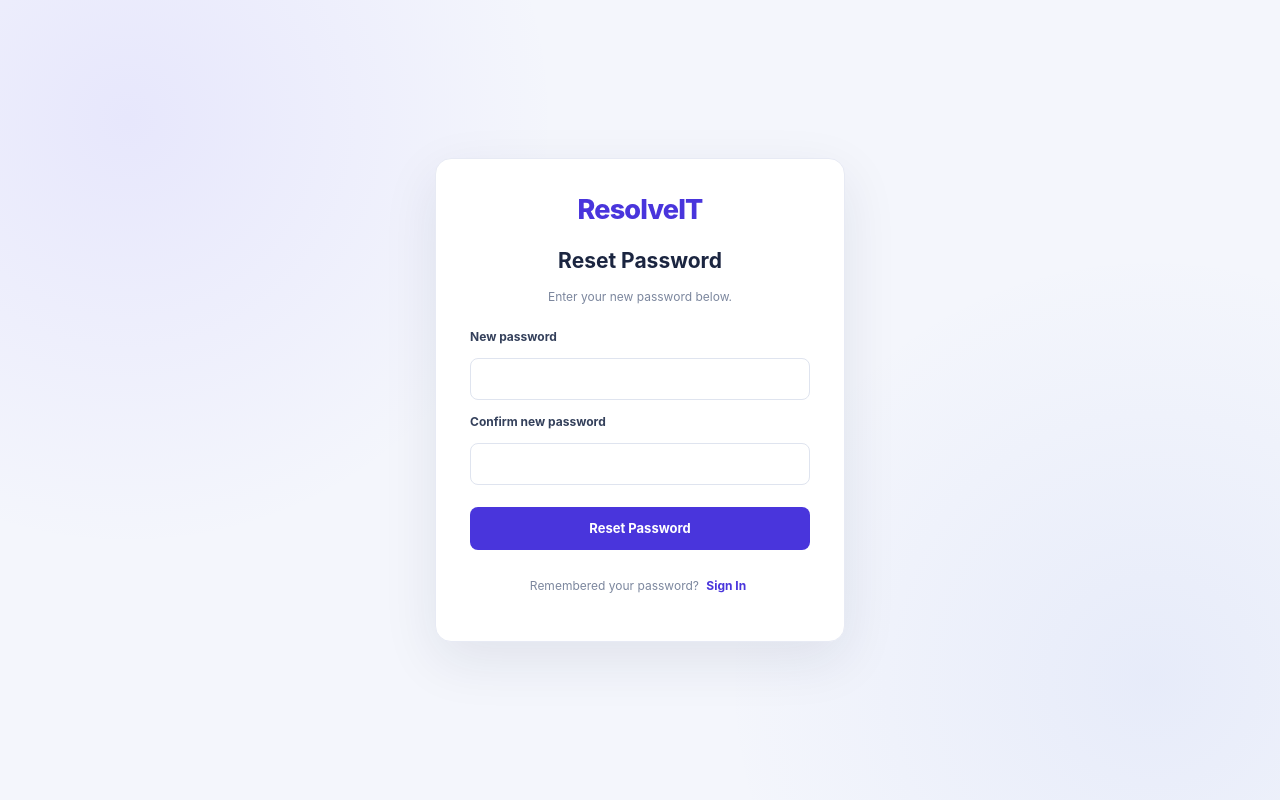
Test: Password Reset Workflows & Security › validates password length and matching confirmation before submitting
The width and height of the screenshot is (1280, 800).
Note: Mismatched passwords
In the password field labelled "New password": (640, 378) [470, 358, 810, 400], type "secret123"
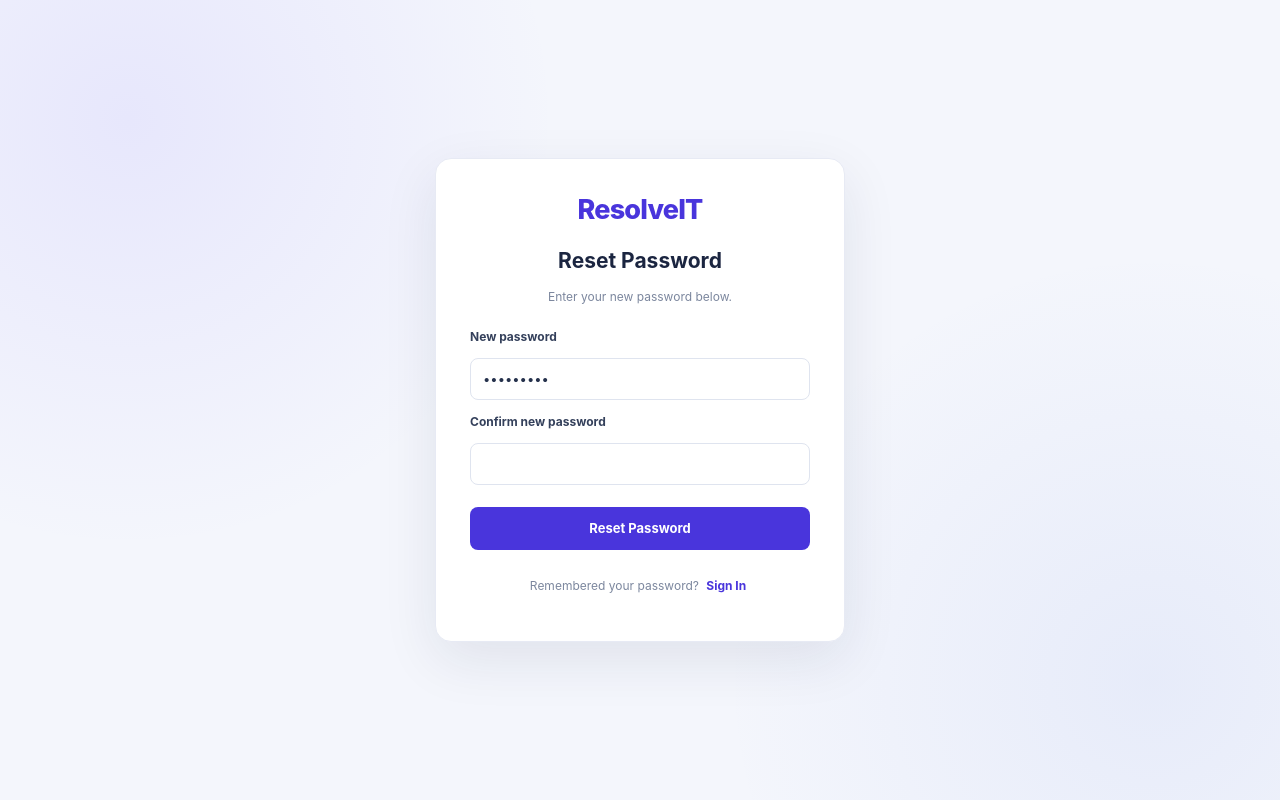
In the password field labelled "Confirm new password": (640, 464) [470, 442, 810, 484], type "different123"
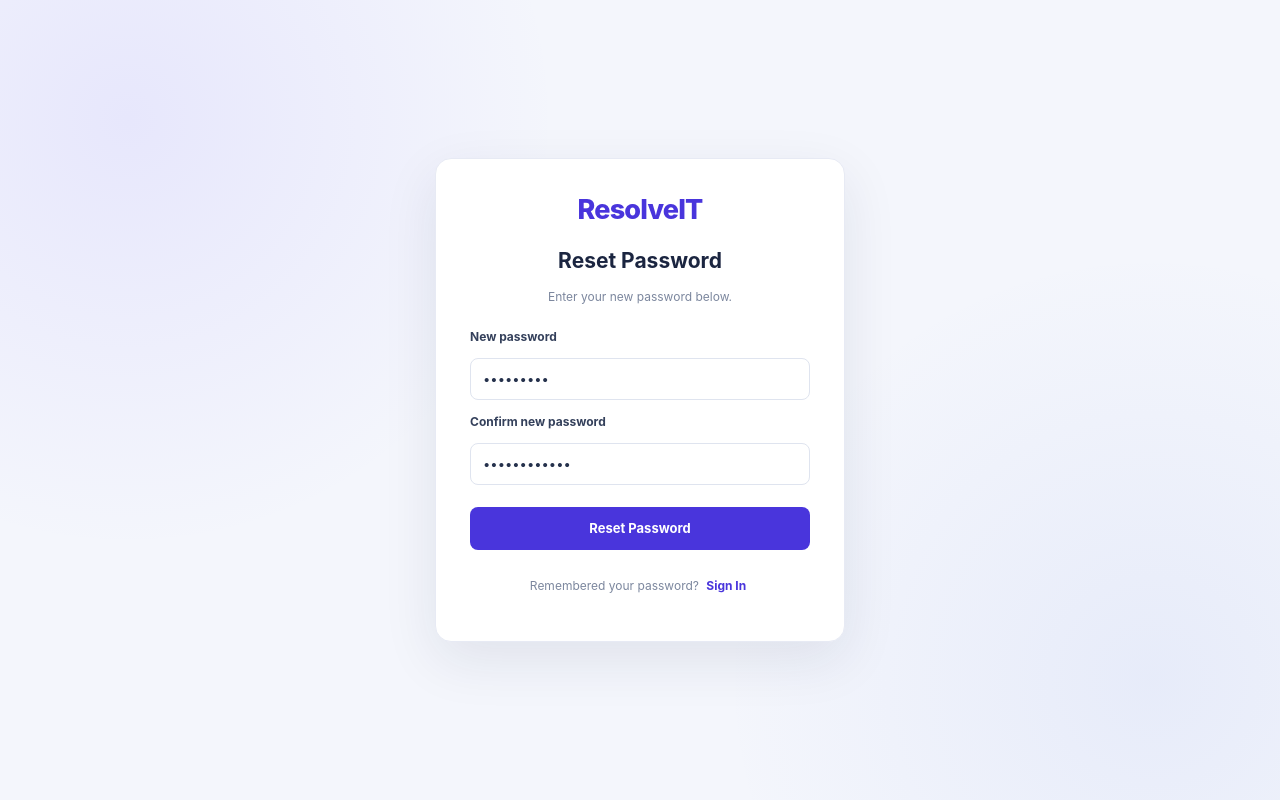
Click the button "Reset Password": (640, 528) [470, 506, 810, 550]
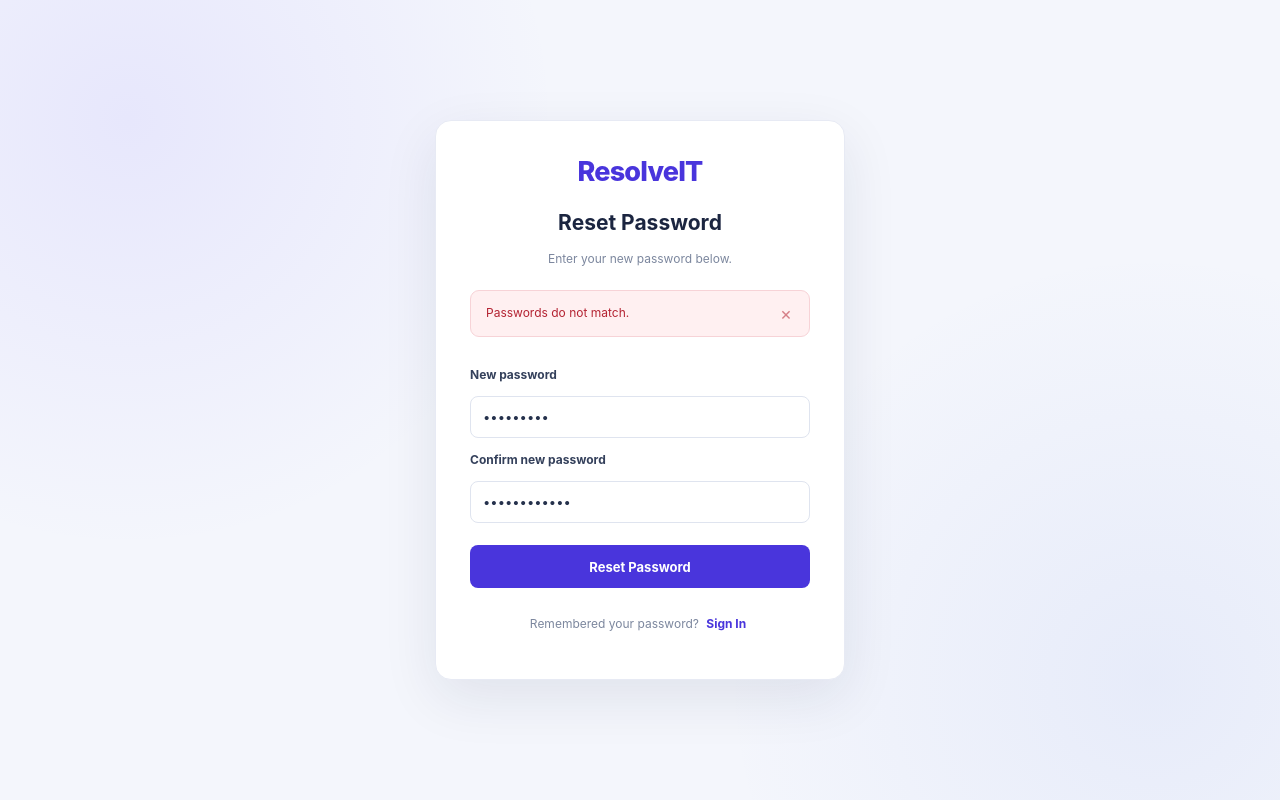
Check: the text "Passwords do not match." is shown, box [486, 305, 629, 320]
In the password field labelled "New password": (640, 417) [470, 396, 810, 438], type "short"
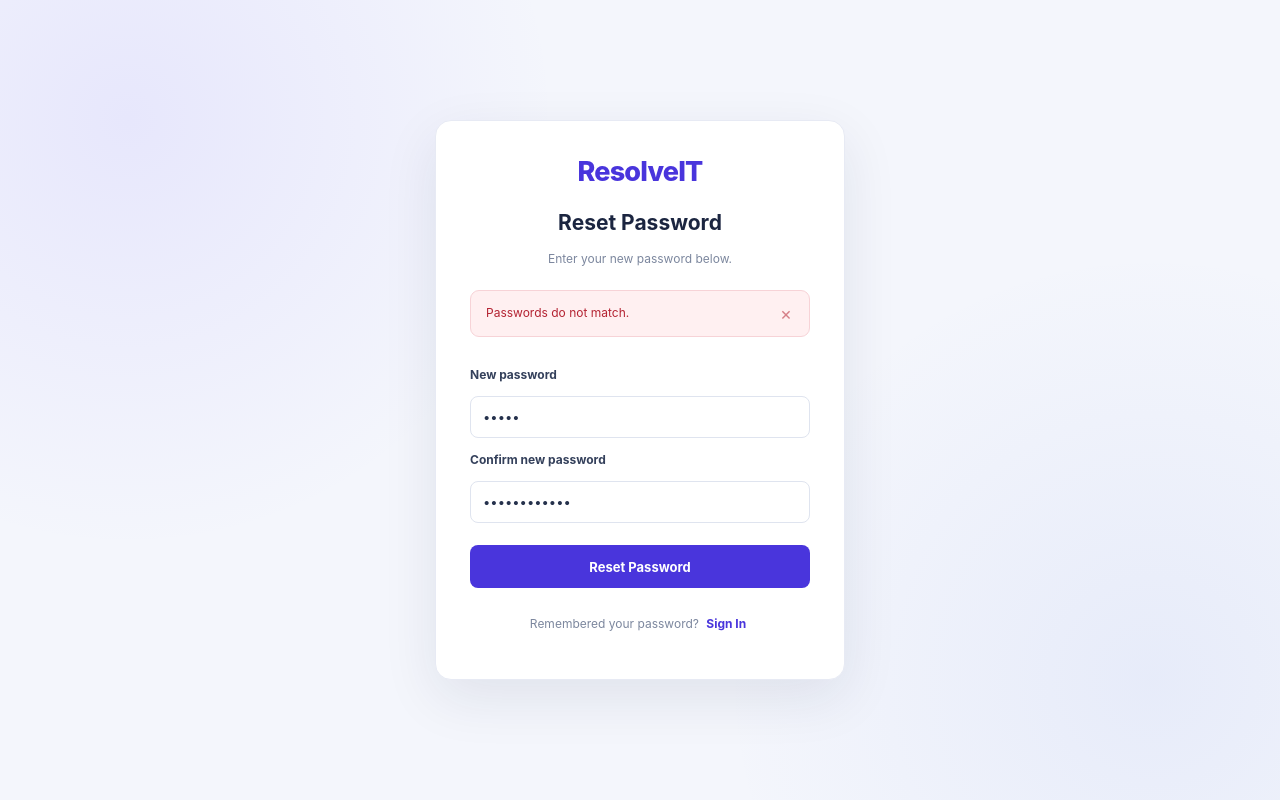
In the password field labelled "Confirm new password": (640, 502) [470, 481, 810, 523], type "short"
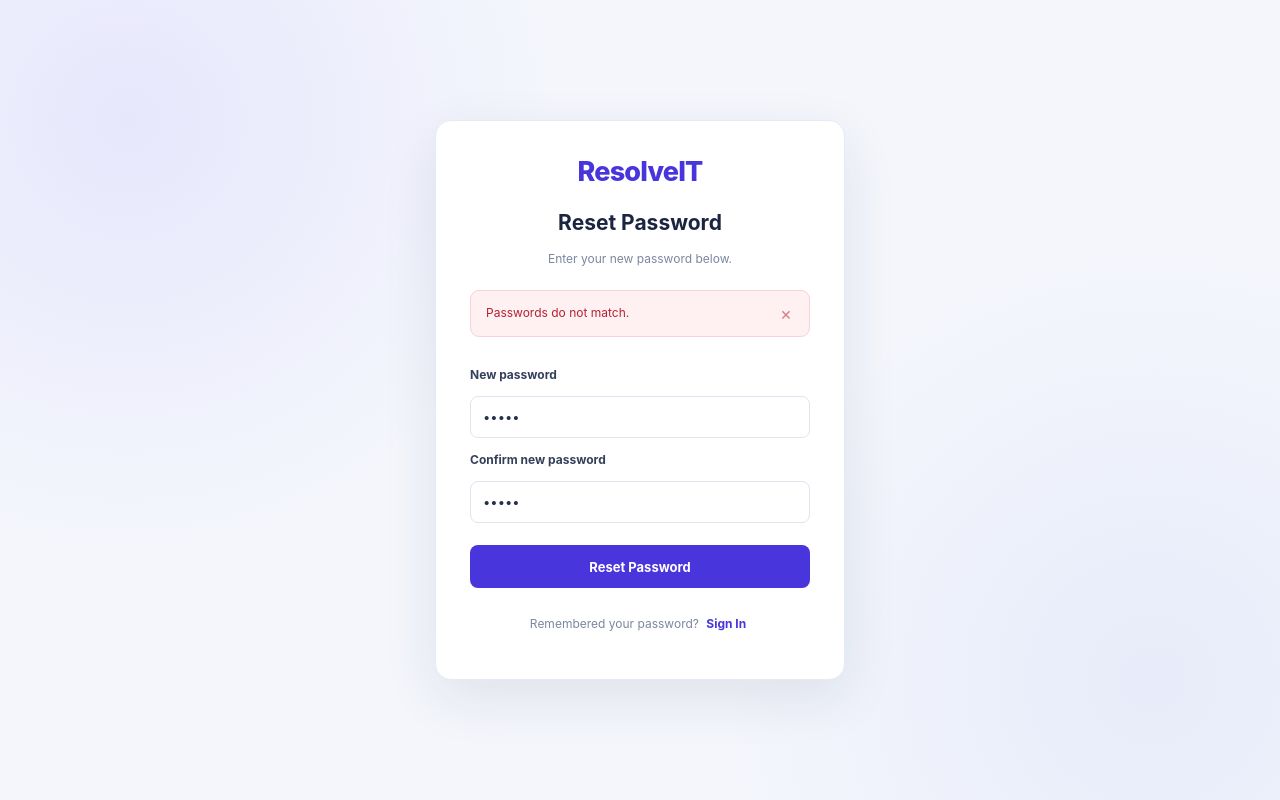
Click the button "Reset Password": (640, 567) [470, 545, 810, 588]
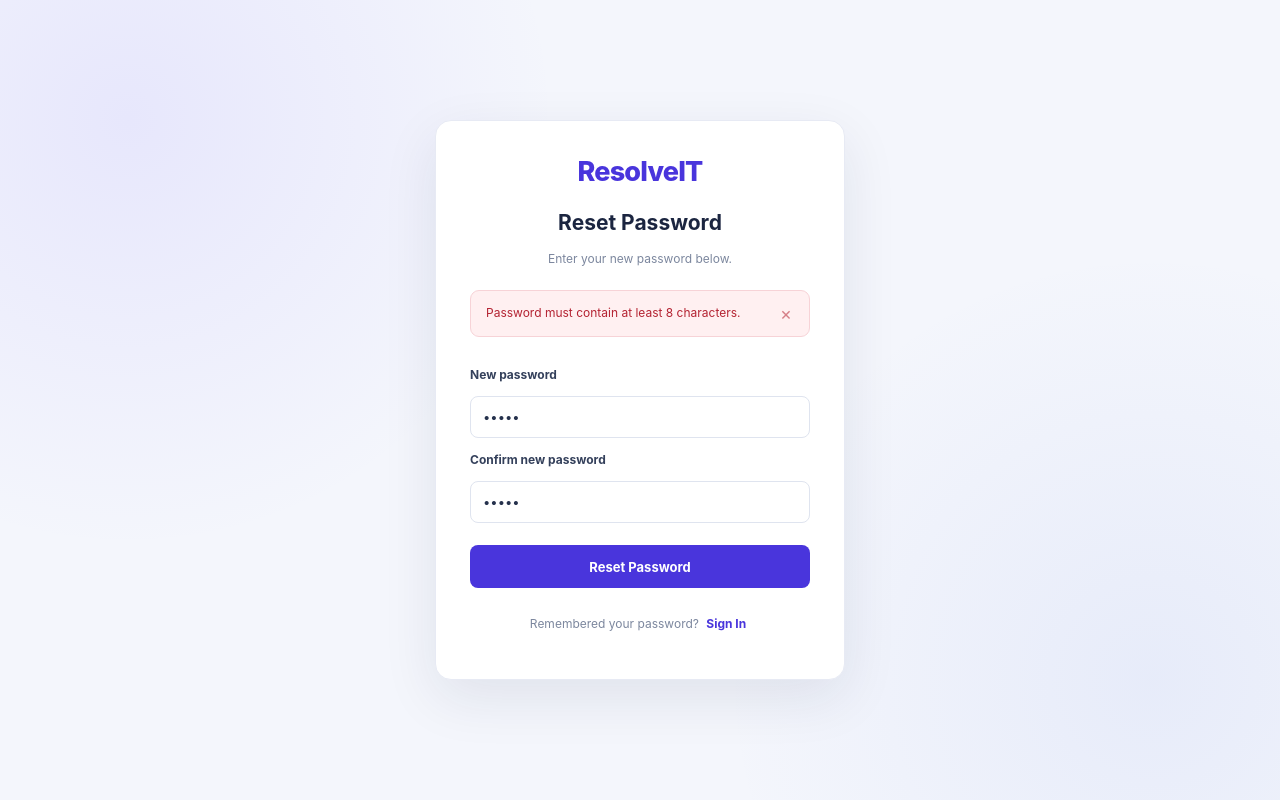
Check: the text "Password must contain at least 8 characters." is shown, box [486, 303, 768, 322]
